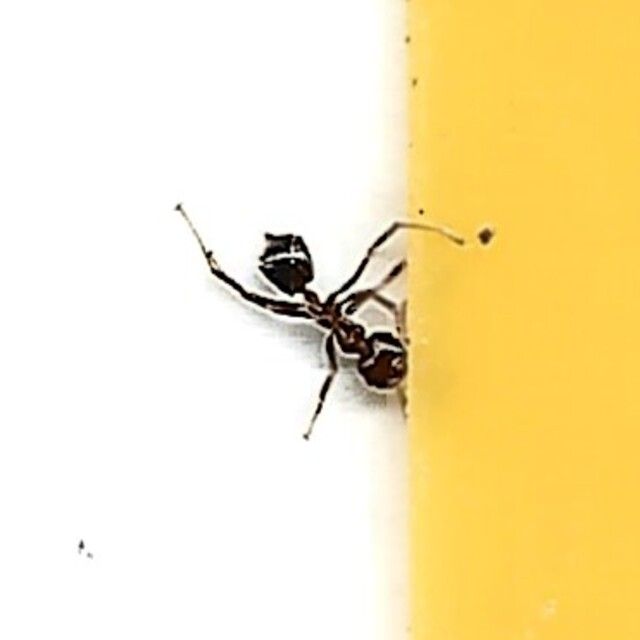Hymenoptera: (173, 197, 467, 443)
